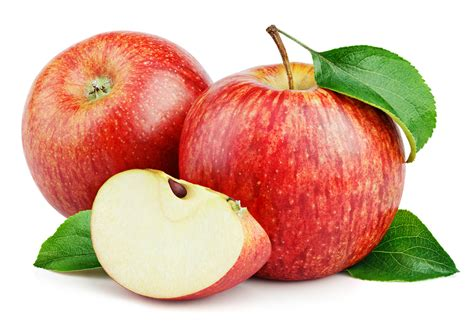apple: (177, 51, 406, 284)
